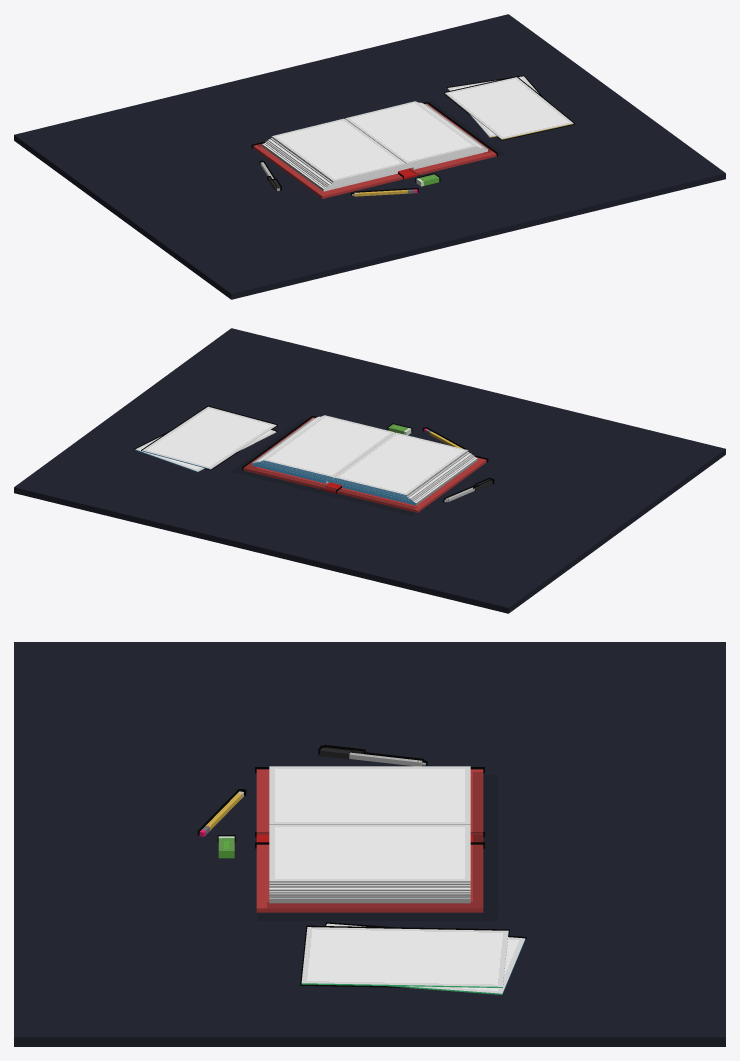
File: module map background.gltf
The picture shows the model from 3 angles, top to bottom: view 1: azimuth 30°, elevation 25°; view 2: azimuth 150°, elevation 25°; view 3: azimuth 270°, elevation 25°; orthographic projection. The views are drawn at different scales.
Visible parts, largest first — view 1: table, Paper (×7), Cover (×2); view 2: table, Paper (×8), Cover (×2); view 3: table, Paper (×6), Cover (×2), Paper_outline.
Part boxes in pixels (x1,y1,x2,y2): table: (14, 14, 725, 299); Paper (×7): (262, 77, 573, 191); Cover (×2): (253, 103, 496, 198); table: (14, 328, 725, 613); Paper (×8): (135, 406, 477, 505); Cover (×2): (243, 417, 486, 512); table: (14, 642, 725, 1046); Paper (×6): (269, 766, 525, 994); Cover (×2): (256, 769, 483, 912); Paper_outline: (300, 925, 509, 987).
Size of the model in its own units: 11 by 0.3762 by 8.38.
3 materials, 3 textured.
